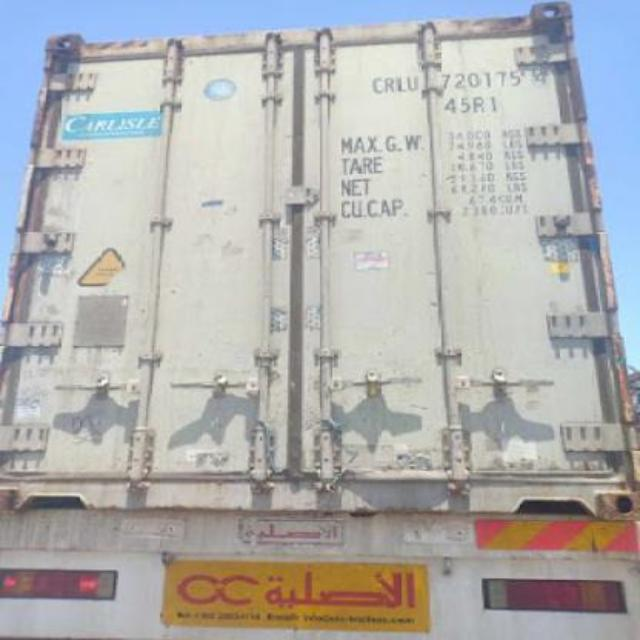0: (468, 70, 480, 88)
1: (484, 70, 494, 86)
2: (454, 74, 466, 88)
4: (534, 70, 546, 84)
5: (506, 69, 522, 87)
7: (494, 70, 508, 88), (440, 72, 450, 90)
C: (372, 78, 384, 92)
L: (398, 75, 408, 95)
R: (384, 76, 396, 94)
U: (406, 75, 419, 93)
